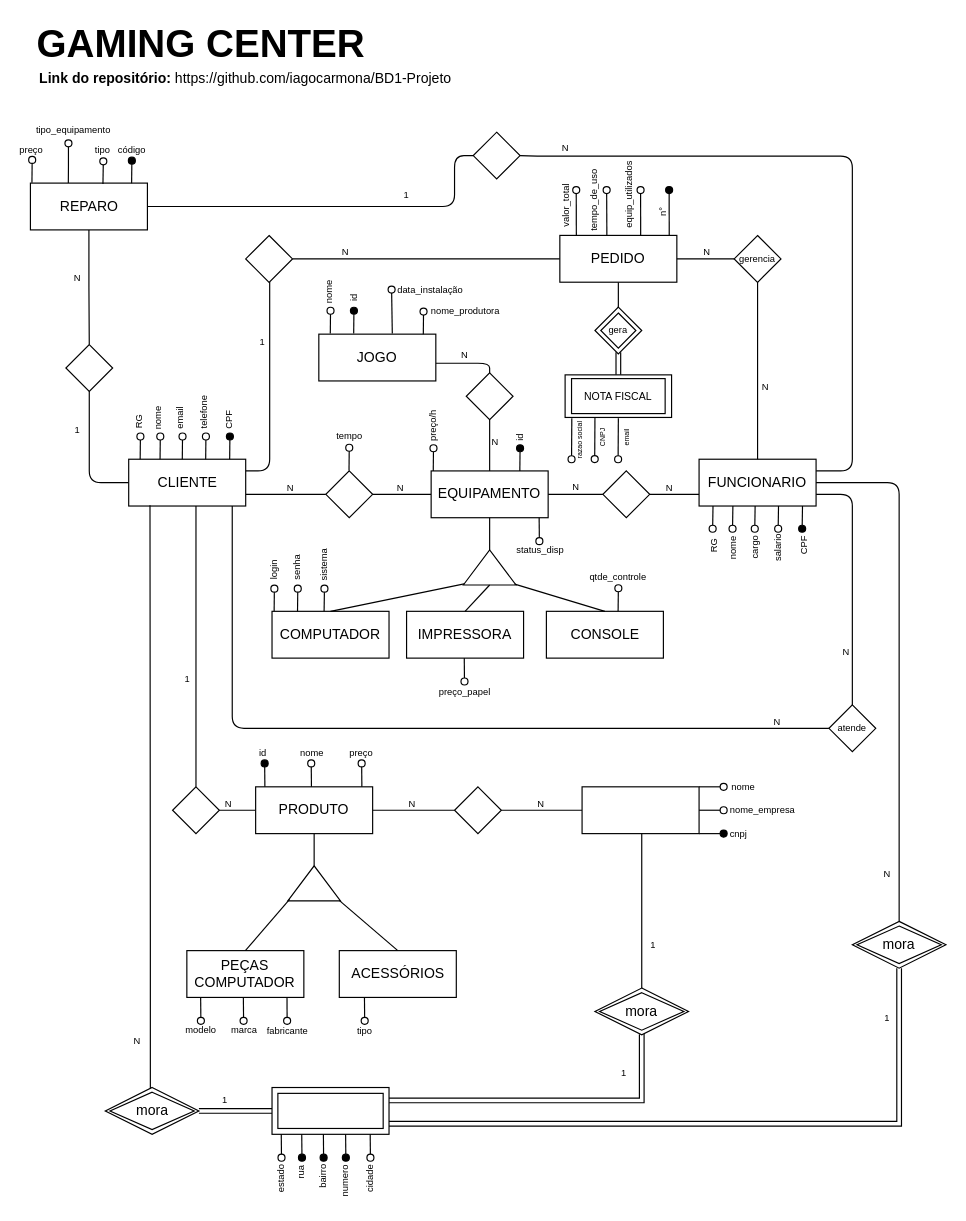
Some shapes in this 966 by 1221 pixel diagram are drawn without their labels. Each missing label, with the centre of its shape:
"arruma" belongs at [626,494].
"compra" belongs at [195,810].
"ENDEREÇO" belongs at [330,1110].
"faz" belongs at [268,258].
"fornece" belongs at [477,810].
"FORNECEDOR" belongs at [640,810].
"pede" belongs at [89,367].
"realiza" belongs at [496,155].
"tem" belongs at [489,396].
"utiliza" belongs at [349,494].
